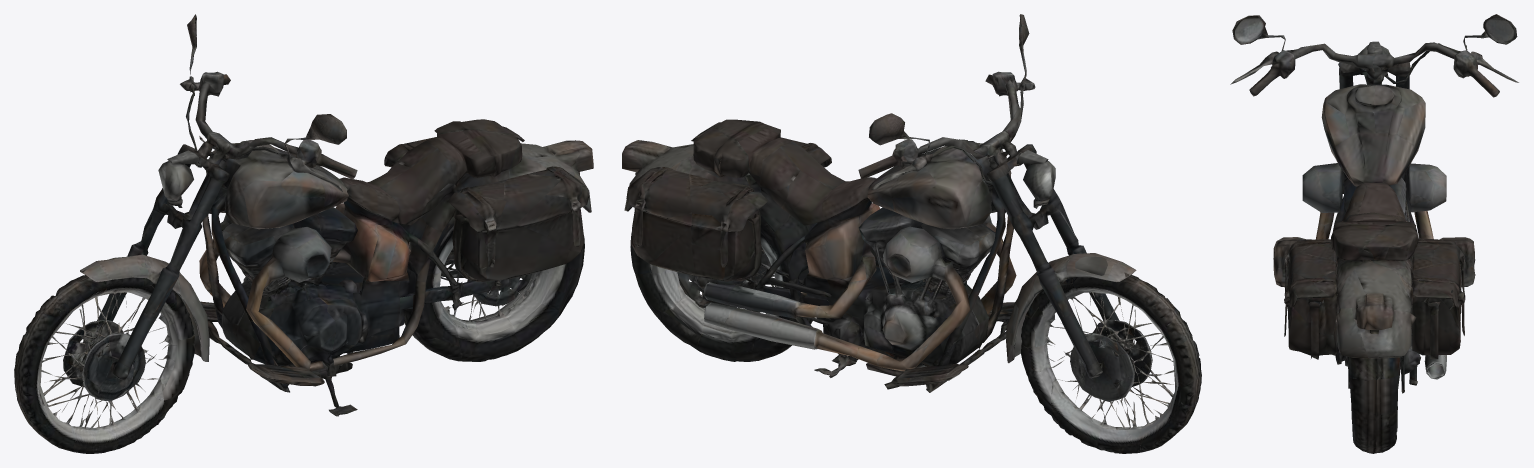
File: car_motorcycle_light_q3.glb
3 views of the same model, side by side, from view 1: azimuth 30°, elevation 25°; view 2: azimuth 150°, elevation 25°; view 3: azimuth 270°, elevation 25° (orthographic). The views are drawn at different scales.
Bounding box in the file's own units: 2.58 × 1.5 × 1.21.
Materials: 1 (1 with a texture image).
